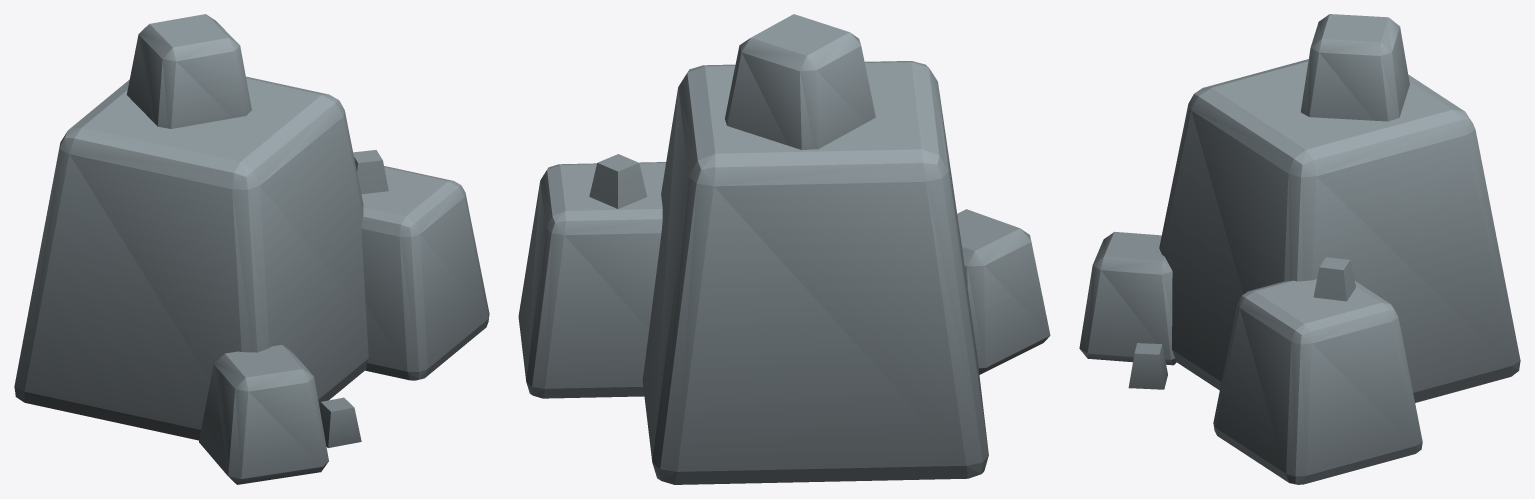
The model's file is kf_rock_2_h.fbx.
The picture shows the model from 3 angles, left to right: view 1: azimuth 30°, elevation 25°; view 2: azimuth 150°, elevation 25°; view 3: azimuth 270°, elevation 25°; orthographic projection. The views are drawn at different scales.
Parts seen in each view (by area): view 1: kf_rock_2_h_LOD0; view 2: kf_rock_2_h_LOD0; view 3: kf_rock_2_h_LOD0.
Part boxes in pixels (x1,y1,x2,y2): kf_rock_2_h_LOD0: (14, 14, 489, 484); kf_rock_2_h_LOD0: (518, 14, 1050, 484); kf_rock_2_h_LOD0: (1079, 14, 1520, 484).
Size of what is drawn, in the model's own units: 8.87 by 6.62 by 7.95.
